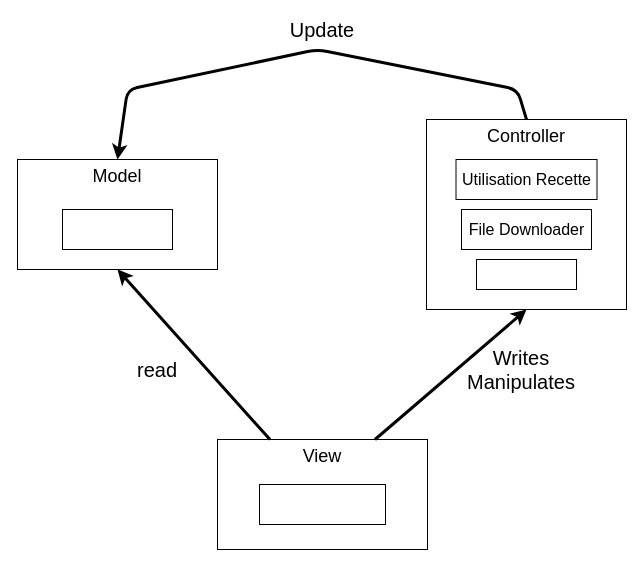
Some shapes in this 644 by 567 pixel diagram are drawn without their labels. The shapes that lost their labels are listed below. From the top down, each one's centre as x and y in pixels, then its label:
At (x=117, y=229): "Recette".
At (x=526, y=274): "Automate".
At (x=322, y=504): "Main Window".
